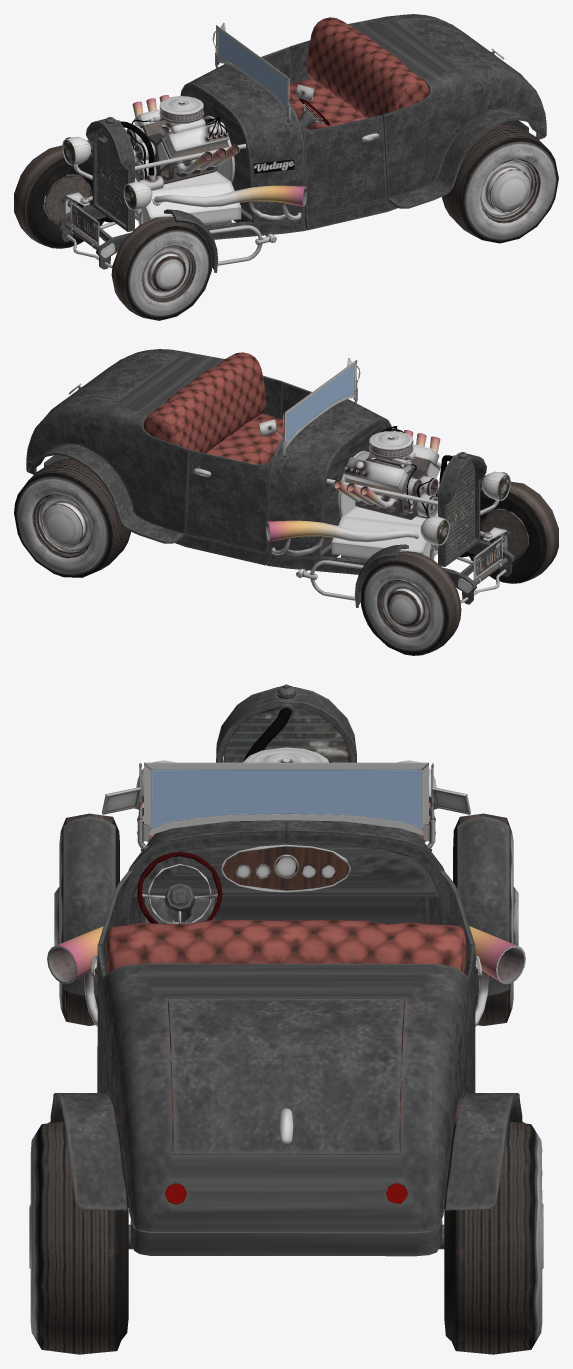
File: hotrod.glb
The picture shows the model from 3 angles, top to bottom: view 1: azimuth 30°, elevation 25°; view 2: azimuth 150°, elevation 25°; view 3: azimuth 270°, elevation 25°; orthographic projection. The views are drawn at different scales.
Parts seen in each view (by area): view 1: hotrod_primary_hotrod_primary_baked_0, hotrod_secondary_hotrod_secondary_baked_0, hotrod_rear_wheel_L_hotrod_wheels_baked_0; view 2: hotrod_primary_hotrod_primary_baked_0, hotrod_secondary_hotrod_secondary_baked_0, hotrod_rear_wheel_L_hotrod_wheels_baked_0; view 3: hotrod_primary_hotrod_primary_baked_0, hotrod_secondary_hotrod_secondary_baked_0, hotrod_rear_wheel_L_hotrod_wheels_baked_0.
Part boxes in pixels (<box>): hotrod_primary_hotrod_primary_baked_0: <box>44,14,546,272</box>; hotrod_secondary_hotrod_secondary_baked_0: <box>60,17,504,268</box>; hotrod_rear_wheel_L_hotrod_wheels_baked_0: <box>14,123,558,320</box>; hotrod_primary_hotrod_primary_baked_0: <box>26,349,528,607</box>; hotrod_secondary_hotrod_secondary_baked_0: <box>68,352,512,603</box>; hotrod_rear_wheel_L_hotrod_wheels_baked_0: <box>14,458,558,655</box>; hotrod_primary_hotrod_primary_baked_0: <box>48,684,524,1256</box>; hotrod_secondary_hotrod_secondary_baked_0: <box>47,707,525,1144</box>; hotrod_rear_wheel_L_hotrod_wheels_baked_0: <box>29,813,543,1354</box>.
Size of the model in its own units: 4.72 by 1.97 by 2.36.
3 materials, 3 textured.
